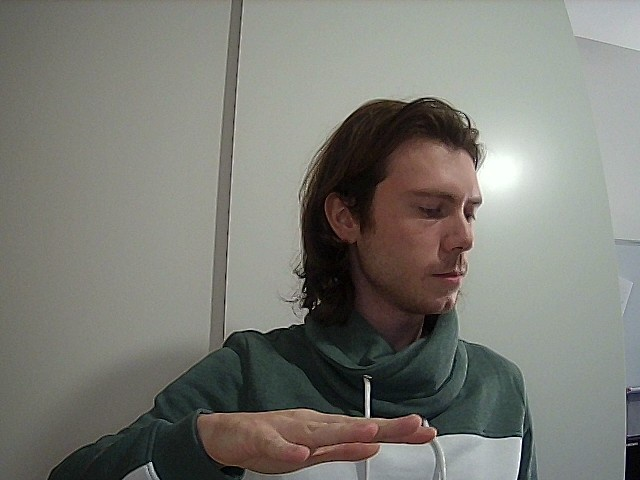space: (42, 374, 462, 480)
